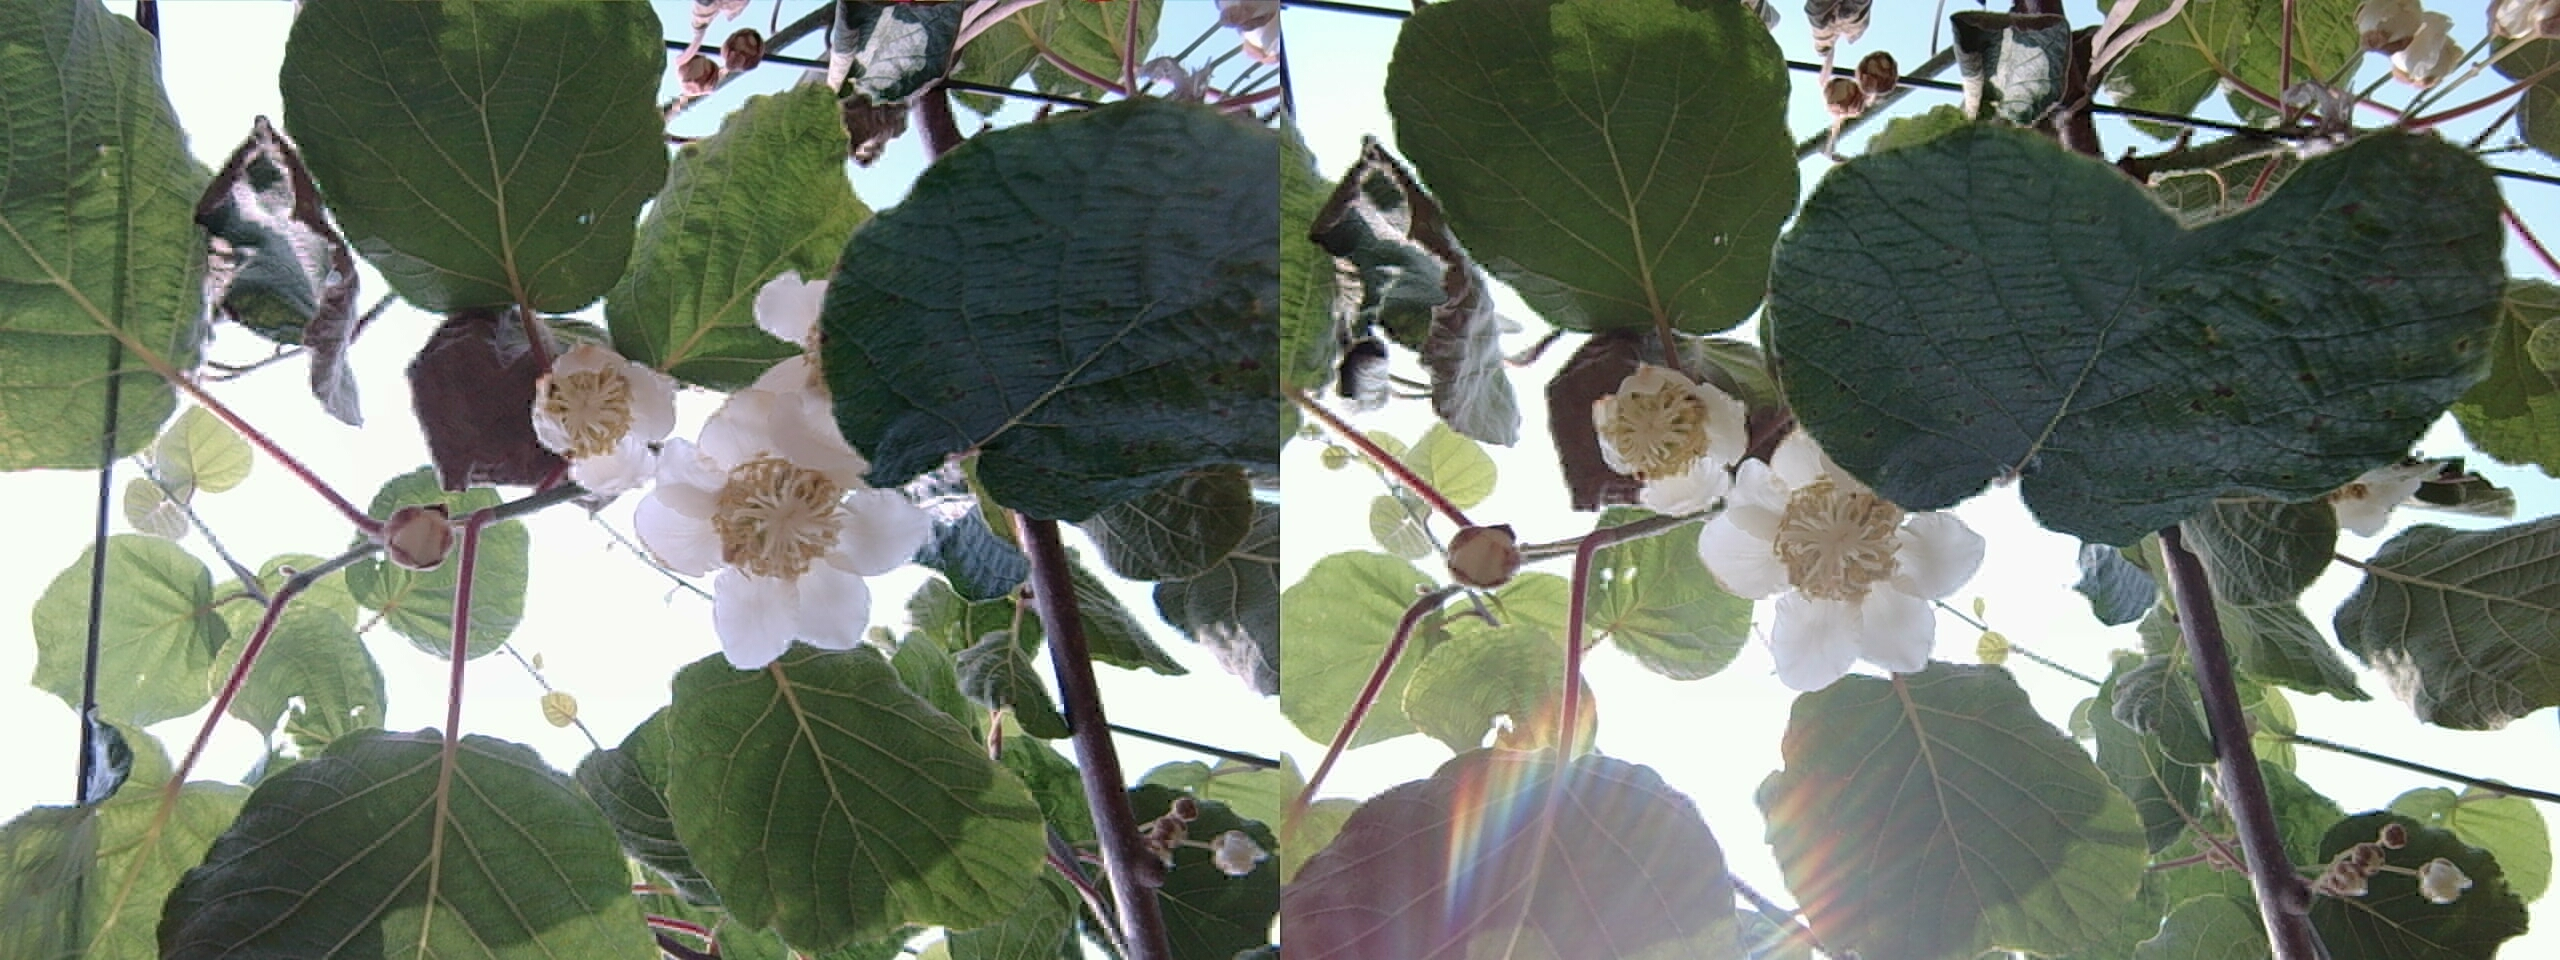flower: (627, 398, 913, 660), (1696, 434, 1977, 678), (1579, 356, 1745, 509), (527, 333, 684, 490)
